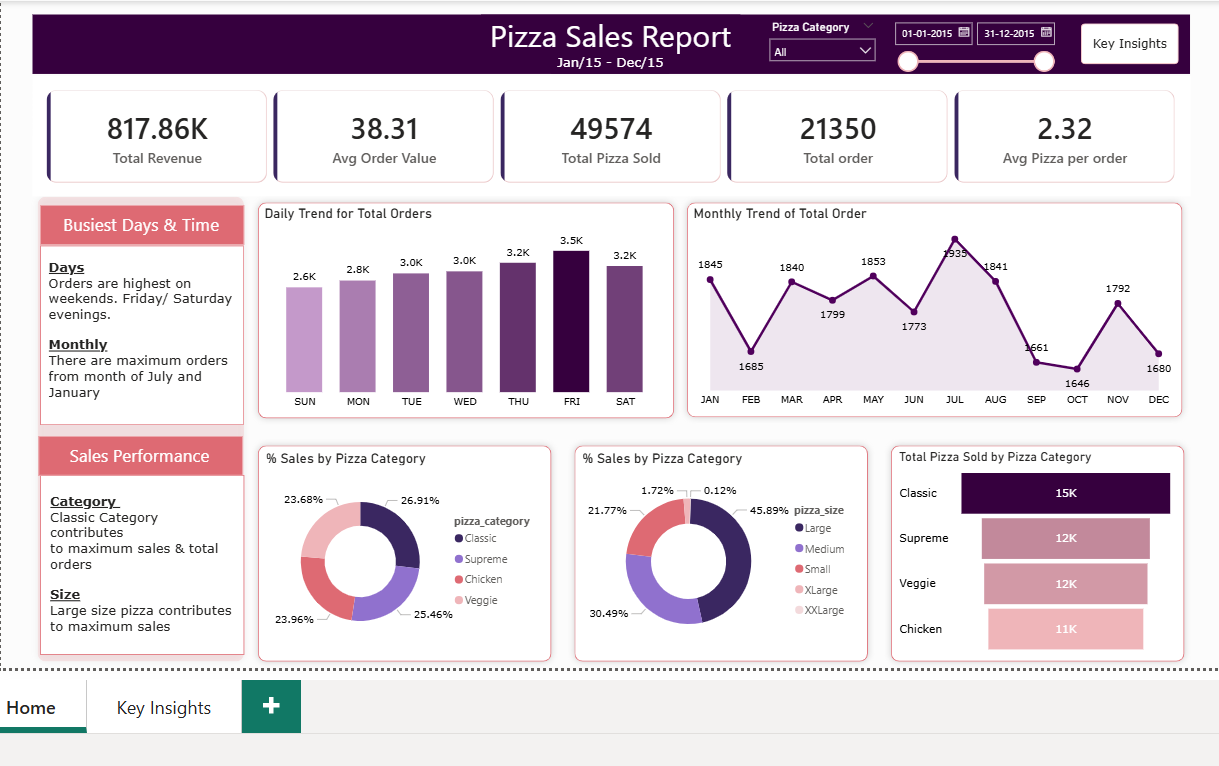

Layout of this report page (visuals, bound fields, positions):
{"tool":"powerbi","page":{"name":"Home","canvas":[1500,820],"ordinal":0},"visuals":[{"type":"shape","box":[37.8,232.2,270,587.8],"z":0},{"type":"shape","box":[38.5,17.3,1423.1,73.1],"z":1000},{"type":"cardVisual","fields":{"Data":["pizza_sales.Total Revenue","pizza_sales.Avg Order Value","pizza_sales.Total Pizza Sold","pizza_sales.Total order","pizza_sales.Avg Pizza per order"]},"box":[38,92,1424,148],"z":2000},{"type":"textbox","box":[590.6,17.5,318.8,51.2],"z":3000},{"type":"textbox","box":[676.2,63.8,144.6,24.6],"z":4000},{"type":"shape","box":[307.5,240,527.5,281.2],"z":5000},{"type":"columnChart","title":"Daily Trend for Total Orders","fields":{"Y":["pizza_sales.Total order"],"Category":["pizza_sales.Order Day"]},"box":[318.8,251.2,502.5,258.8],"z":6000},{"type":"shape","box":[835,240,625,280],"z":7000},{"type":"areaChart","title":"Monthly Trend of Total Order","fields":{"Y":["pizza_sales.Total order"],"Category":["pizza_sales.Order Month"]},"box":[846.5,251.2,601.5,255.8],"z":8000},{"type":"shape","box":[308.3,538.3,376.7,281.7],"z":9000},{"type":"shape","box":[696.7,538.3,376.7,281.7],"z":10000},{"type":"shape","box":[1086.7,538.3,376.7,281.7],"z":11000},{"type":"donutChart","title":"% Sales by Pizza Category","fields":{"Category":["pizza_sales.pizza_category"],"Y":["pizza_sales.Total Revenue"]},"box":[320,551.5,350,255.4],"z":12000},{"type":"donutChart","title":"% Sales by Pizza Category","fields":{"Category":["pizza_sales.pizza_size"],"Y":["pizza_sales.Total Revenue"]},"box":[710,552,350,255],"z":13000},{"type":"funnel","title":"Total Pizza Sold by Pizza Category","fields":{"Y":["pizza_sales.Total Pizza Sold"],"Category":["pizza_sales.pizza_category"]},"box":[1100,552,348,256],"z":14000},{"type":"shape","box":[47.3,300,250.9,220.9],"z":15000},{"type":"textbox","box":[53.3,312.2,238.9,207.8],"z":16000},{"type":"shape","box":[47.5,582.5,251.2,221.2],"z":17000},{"type":"shape","box":[47.4,251.1,251.1,48.9],"z":18000},{"type":"textbox","box":[50.3,255.3,245.3,41.2],"z":19000},{"type":"shape","box":[46.7,534,251.3,48.7],"z":20000},{"type":"textbox","box":[50,538.7,241.3,38.7],"z":21000},{"type":"textbox","box":[54.4,598.9,236.7,195.6],"z":22000},{"type":"slicer","fields":{"Values":["pizza_sales.pizza_category"]},"box":[934.5,18.2,150,70],"z":23000},{"type":"slicer","fields":{"Values":["pizza_sales.order_date"]},"box":[1086.8,17.3,216.8,79.1],"z":24000},{"type":"pageNavigator","box":[1327.7,28.5,120,50],"z":25000}]}

Visuals, with their boxes on the page's 1500x820 design canvas (x1, y1, x2, y2). These are canvas units, not pixel positions in the 1219x766 screenshot, which may show the page scaled, cropped or inside an application window:
shape: 38 232 308 820
shape: 38 17 1462 90
cardVisual - pizza_sales.Total Revenue x pizza_sales.Avg Order Value: 38 92 1462 240
textbox: 591 18 909 69
textbox: 676 64 821 88
shape: 308 240 835 521
"Daily Trend for Total Orders" columnChart: 319 251 821 510
shape: 835 240 1460 520
"Monthly Trend of Total Order" areaChart: 846 251 1448 507
shape: 308 538 685 820
shape: 697 538 1073 820
shape: 1087 538 1463 820
"% Sales by Pizza Category" donutChart: 320 552 670 807
"% Sales by Pizza Category" donutChart: 710 552 1060 807
"Total Pizza Sold by Pizza Category" funnel: 1100 552 1448 808
shape: 47 300 298 521
textbox: 53 312 292 520
shape: 48 582 299 804
shape: 47 251 298 300
textbox: 50 255 296 296
shape: 47 534 298 583
textbox: 50 539 291 577
textbox: 54 599 291 794
slicer - pizza_sales.pizza_category: 934 18 1084 88
slicer - pizza_sales.order_date: 1087 17 1304 96
pageNavigator: 1328 28 1448 78
